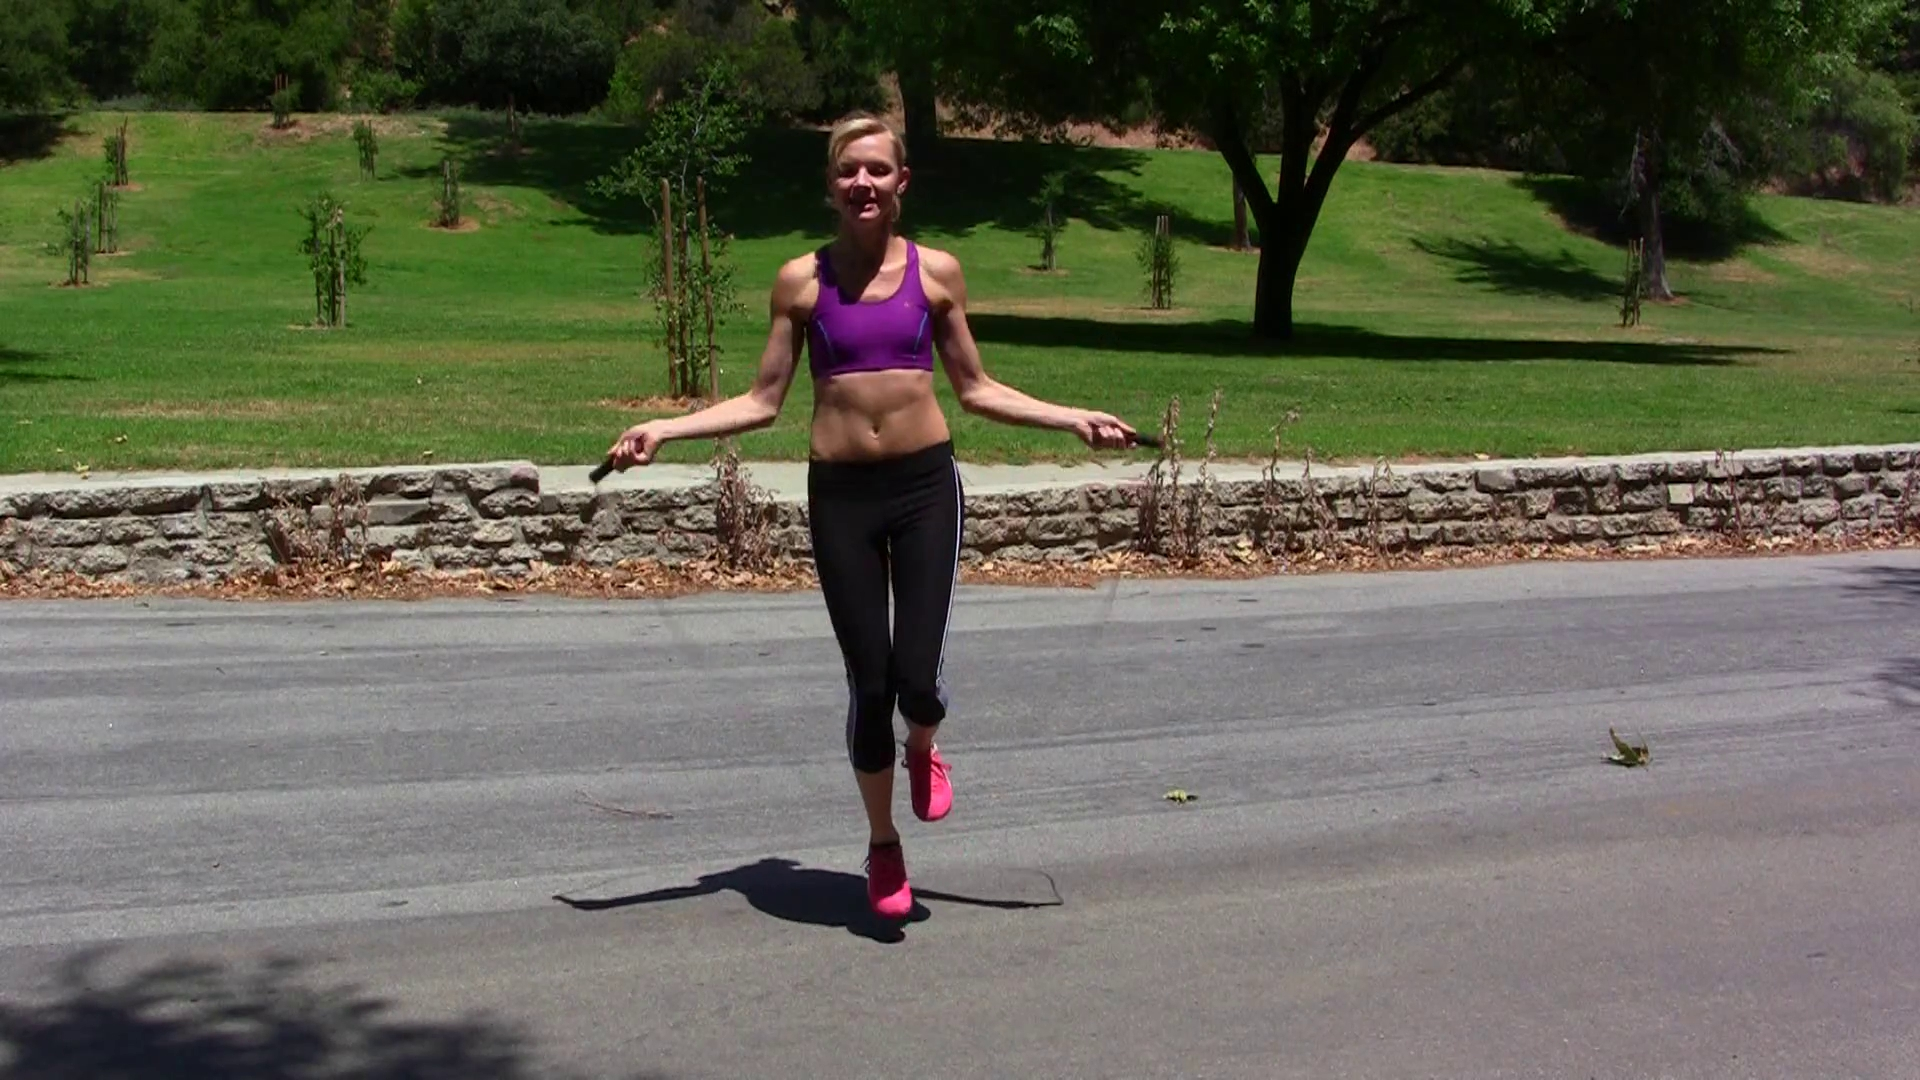person: (606, 117, 1138, 921)
